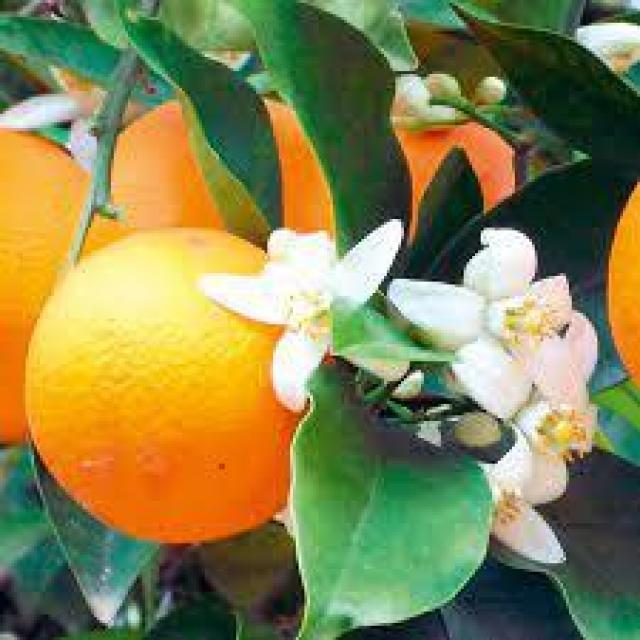Bunga: (208, 222, 406, 401), (398, 228, 572, 410), (472, 344, 617, 498), (452, 449, 580, 566)
Jeruk Sudah Matang: (26, 228, 330, 540), (0, 130, 125, 450), (111, 97, 344, 250), (378, 117, 520, 230), (608, 168, 640, 401)
